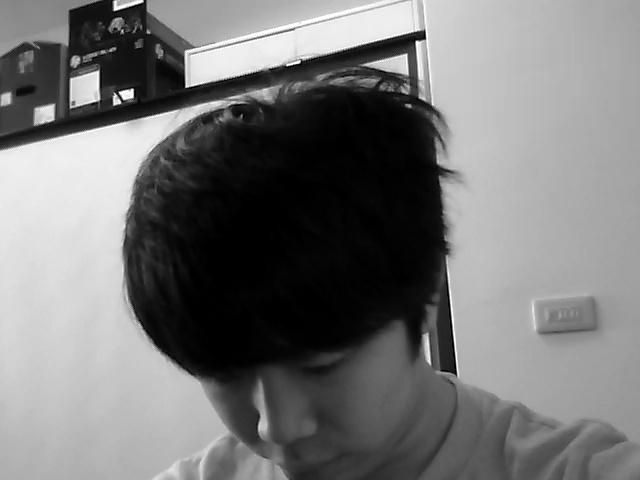eye_closed: (296, 358, 346, 385)
